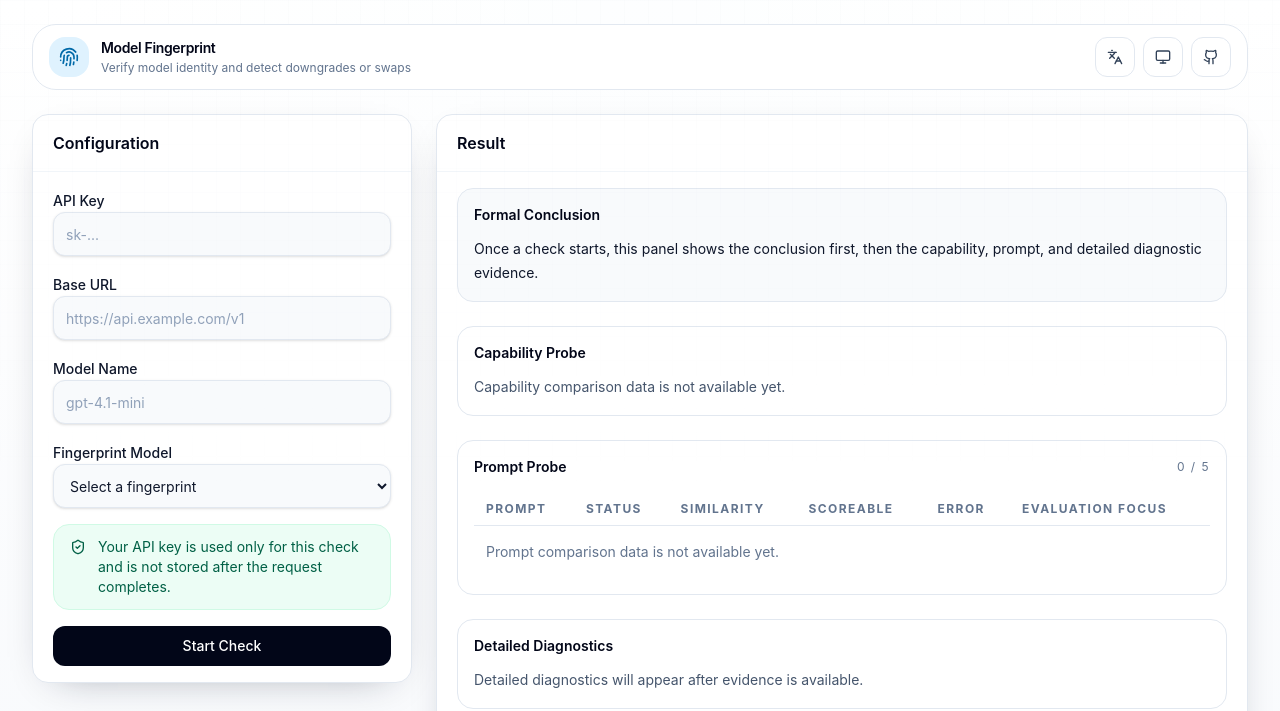
Test: uses the active locale for validation messages after switching language
This screenshot has width=1280, height=711.
Click the button named "Change language" at {"x": 1115, "y": 57}, box [1095, 37, 1135, 77]
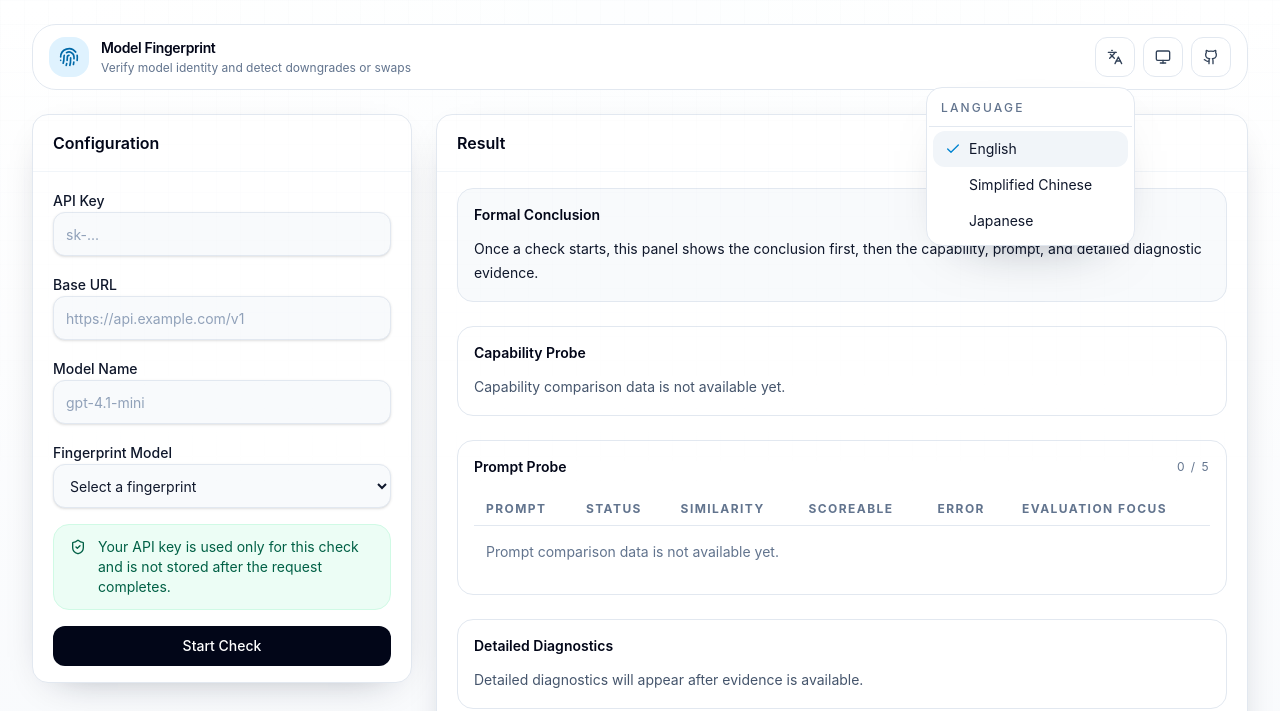
Click the menu item "Simplified Chinese" at {"x": 1031, "y": 184}, box [969, 176, 1092, 193]
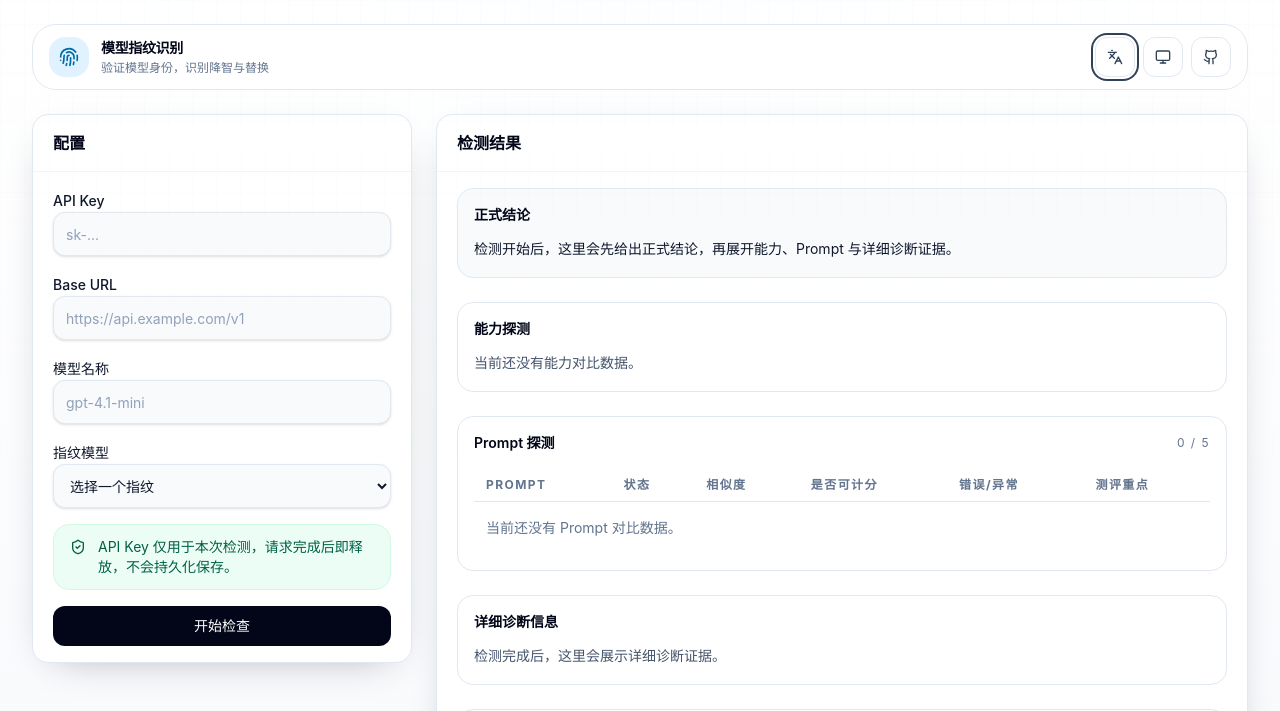
Click the button "开始检查" at {"x": 222, "y": 626}, box [53, 606, 391, 646]
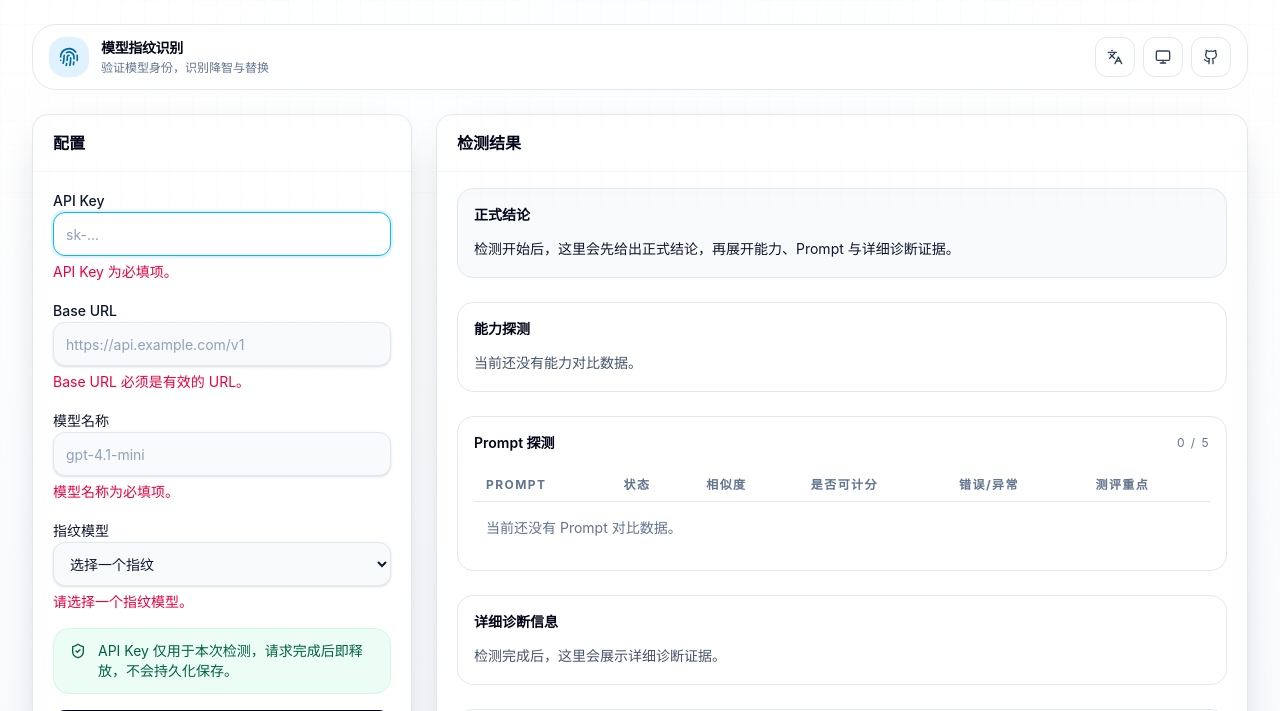
Now the text "API Key 为必填项。" is shown, box [53, 263, 178, 280]
Now the text "Base URL 必须是有效的 URL。" is shown, box [53, 373, 250, 390]
Now the text "模型名称为必填项。" is shown, box [53, 483, 179, 500]
